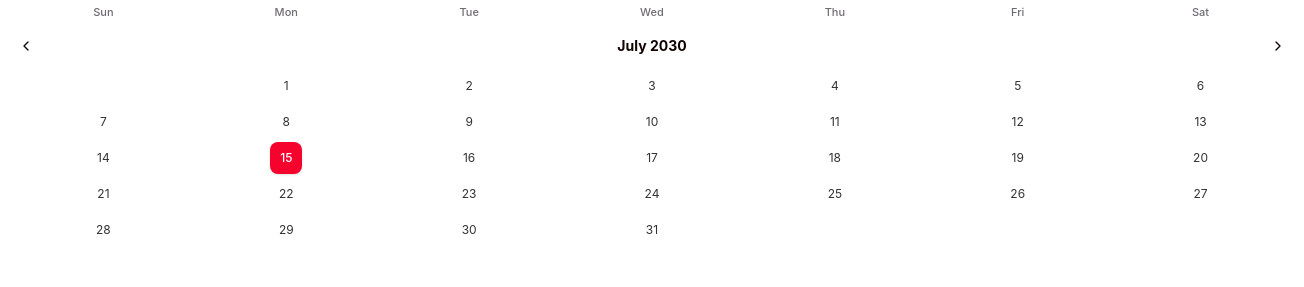
it: DatePickerCalendar › enables previous month navigation when in a future month and disables it once at min month
Click the button named "Previous month": (26, 46) [12,32,40,60]
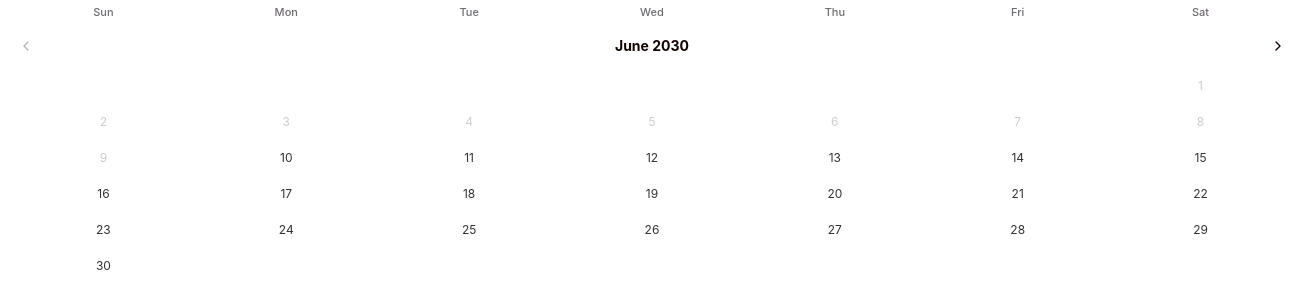
Now the text "June 2030" is shown, box [615,36,689,56]
